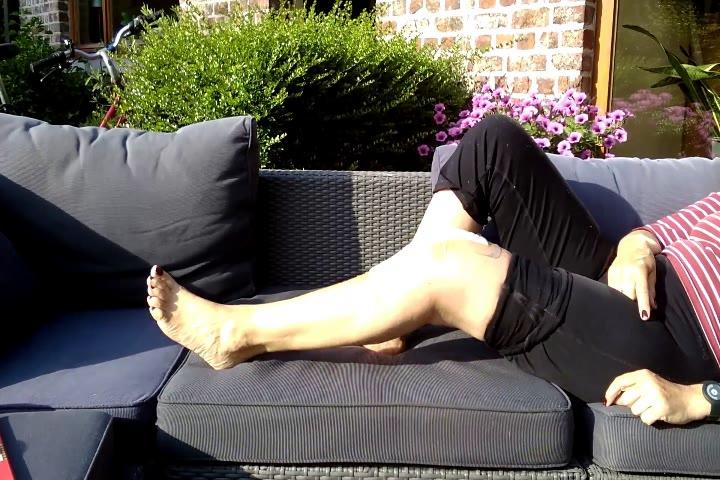lowerbody: (137, 103, 698, 423)
